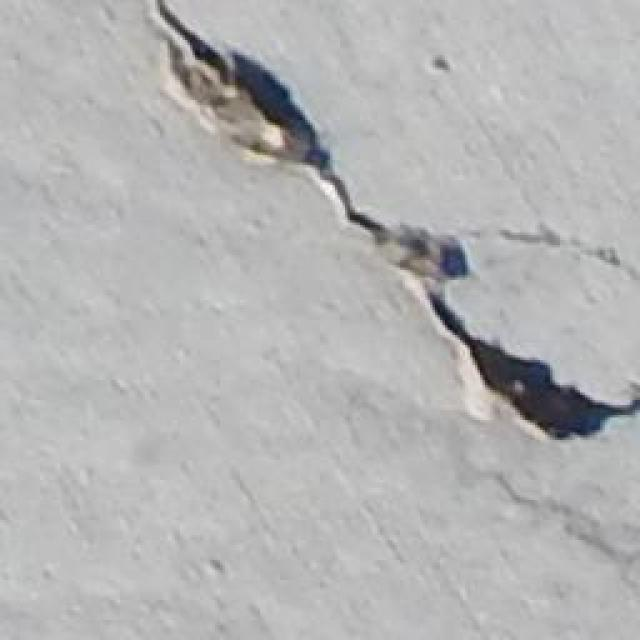concrete-crack: (147, 0, 637, 443)
